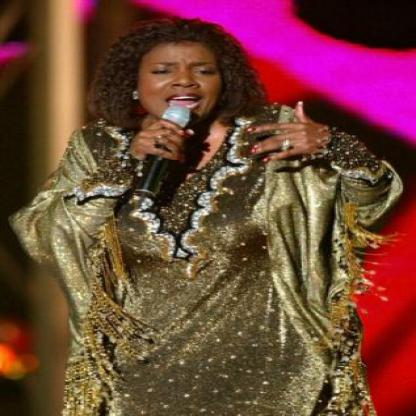face: (137, 27, 226, 126)
